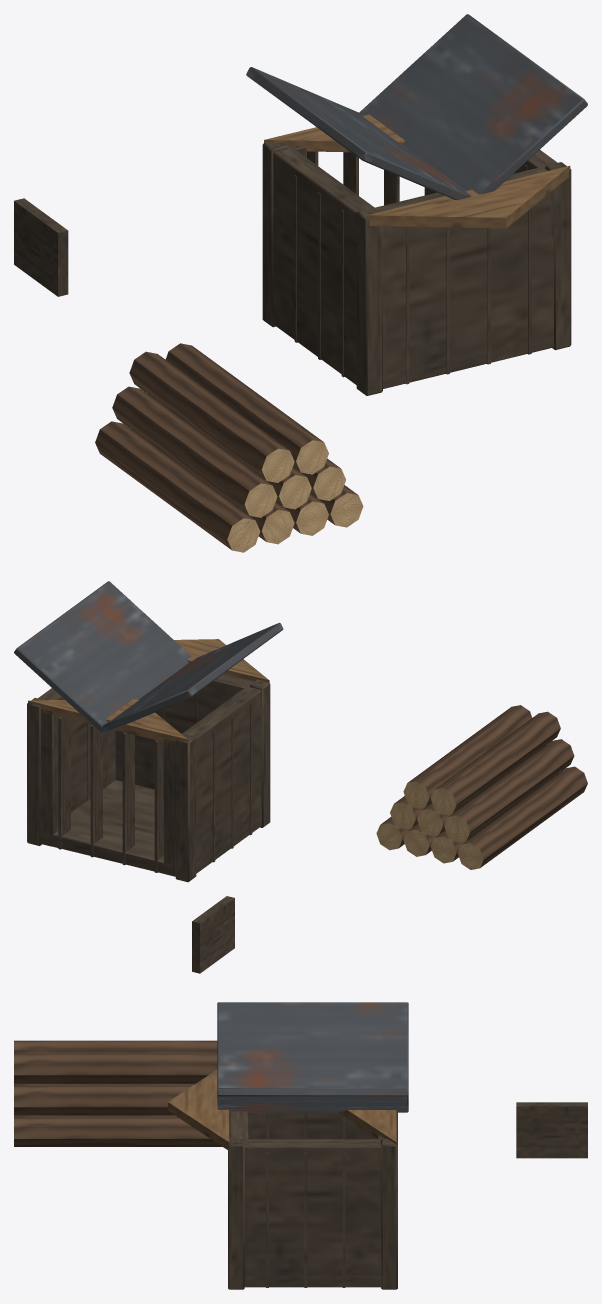
File: SM_POI_LoggingCamp.fbx
3 views of the same model, one above another, from view 1: azimuth 30°, elevation 25°; view 2: azimuth 150°, elevation 25°; view 3: azimuth 270°, elevation 25° (orthographic). The views are drawn at different scales.
Parts seen in each view (by area): view 1: SM_POI_LoggingCamp; view 2: SM_POI_LoggingCamp; view 3: SM_POI_LoggingCamp.
Boxes of the visible parts, left/top/right/bottom form: SM_POI_LoggingCamp: left=14, top=14, right=587, bottom=552; SM_POI_LoggingCamp: left=14, top=581, right=587, bottom=973; SM_POI_LoggingCamp: left=14, top=1002, right=587, bottom=1289.
Bounding box in the file's own units: 19.11 × 9.42 × 24.
Materials: 1 (1 with a texture image).
